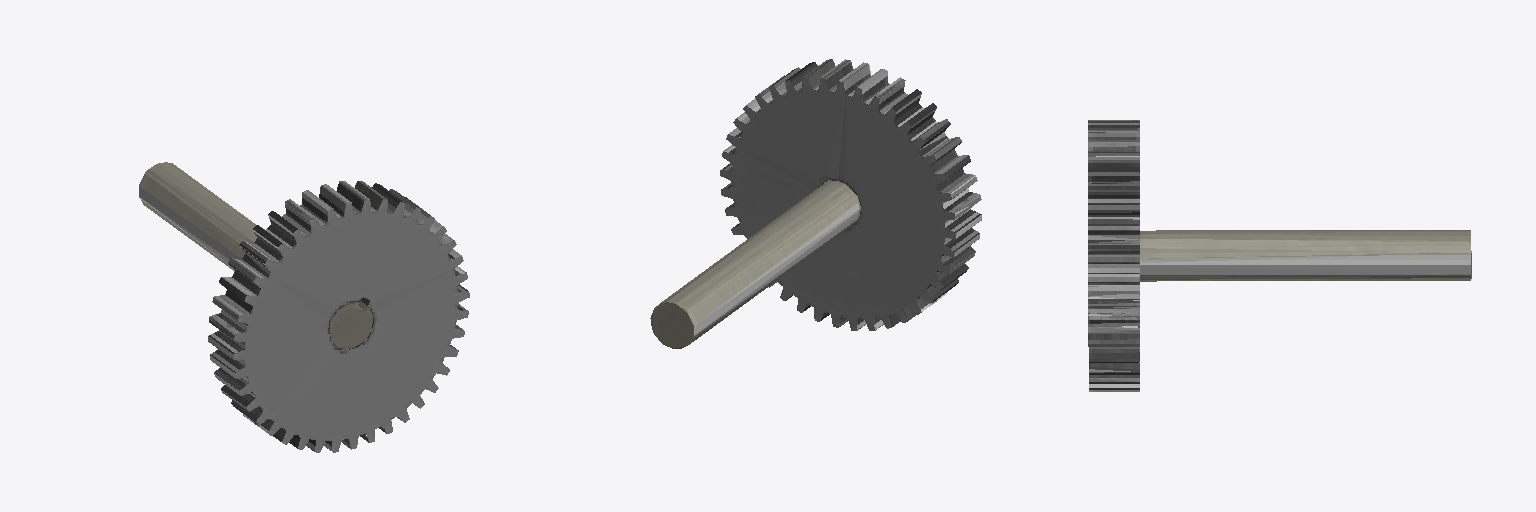
3 views of the same model, side by side, from view 1: azimuth 30°, elevation 25°; view 2: azimuth 150°, elevation 25°; view 3: azimuth 270°, elevation 25° (orthographic).
Parts seen in each view (by area): view 1: Eje.023_Mesh.1379; view 2: Eje.023_Mesh.1379; view 3: Eje.023_Mesh.1379.
Boxes of the visible parts, <box> form: Eje.023_Mesh.1379: <box>139,162,469,452</box>; Eje.023_Mesh.1379: <box>650,59,981,348</box>; Eje.023_Mesh.1379: <box>1088,120,1471,391</box>.
Size of the model in its own units: 0.0698 by 0.0697 by 0.098.
Materials: 2 (1 with a texture image).